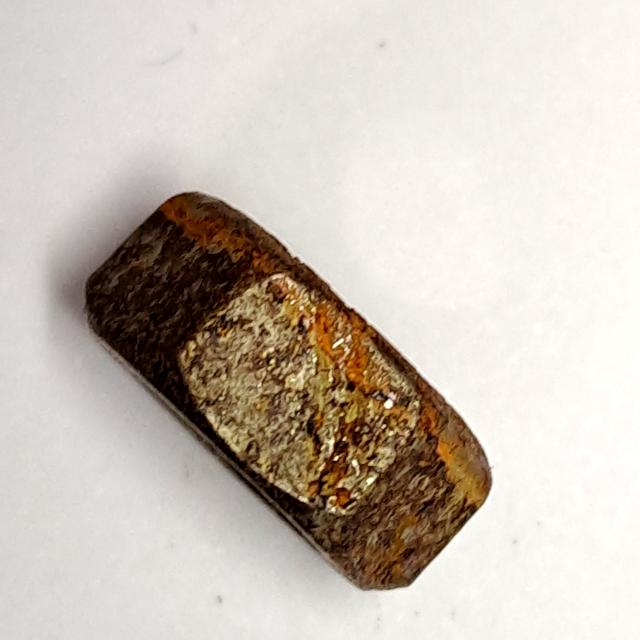Side_Rust: (66, 175, 503, 613)
